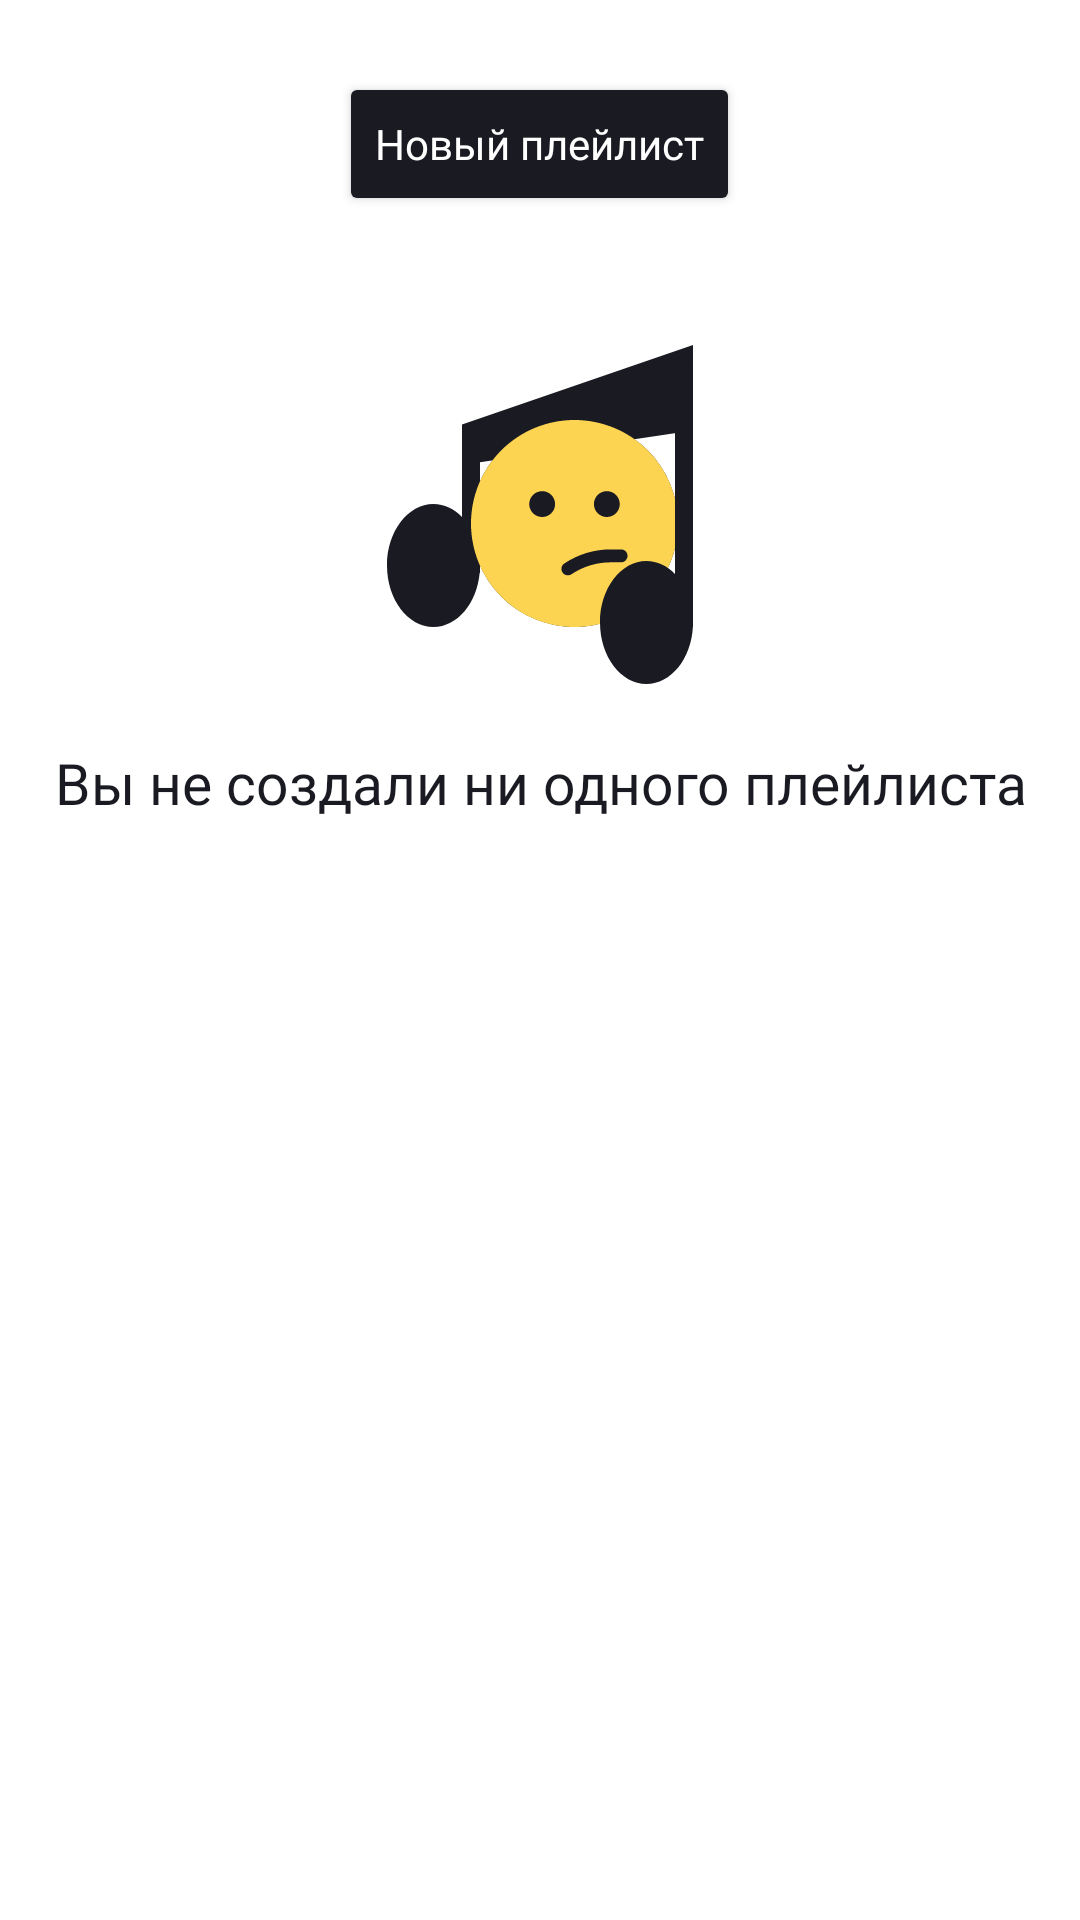

Icons on this 1080 × 1920 Android screen, each with the point to tap as [x,y]:
error emoji: [540,514]
